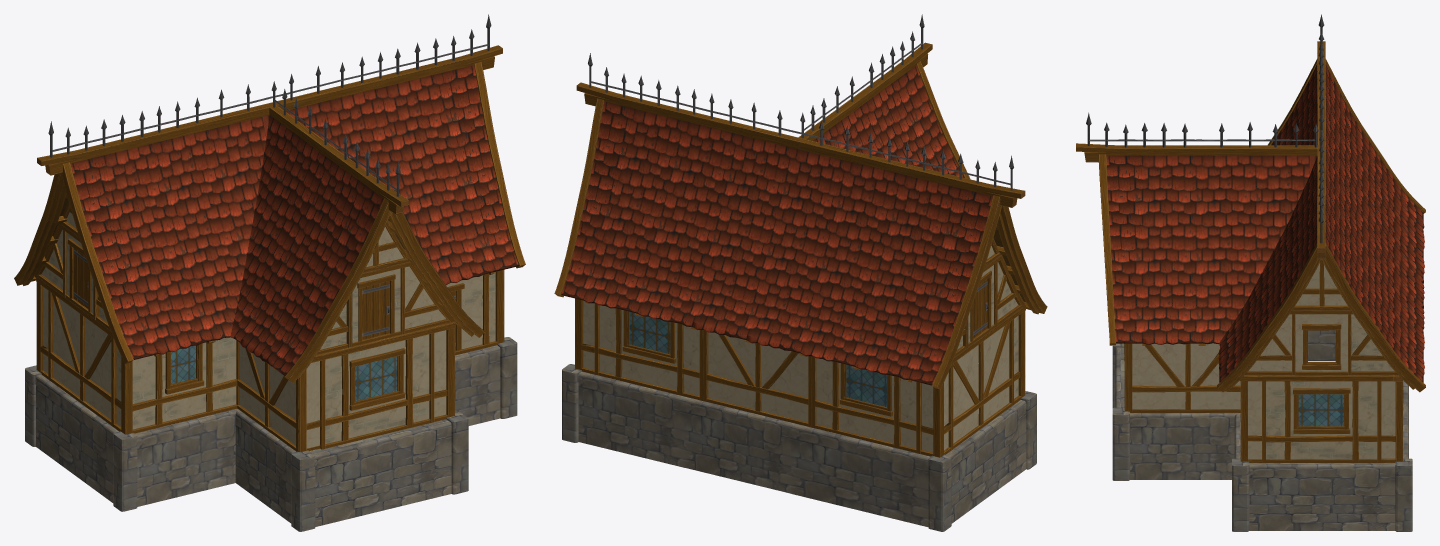
The model's file is house_2x2_04_merged.gltf.
3 renders of one model, left to right at view 1: azimuth 30°, elevation 25°; view 2: azimuth 150°, elevation 25°; view 3: azimuth 270°, elevation 25°, orthographic. The views are drawn at different scales.
Parts seen in each view (by area): view 1: House_2x2_04_Merged; view 2: House_2x2_04_Merged; view 3: House_2x2_04_Merged.
Part boxes in pixels (x1,y1,x2,y2): House_2x2_04_Merged: [14, 14, 525, 531]; House_2x2_04_Merged: [554, 14, 1047, 531]; House_2x2_04_Merged: [1076, 14, 1425, 531].
Bounding box in the file's own units: 20.47 × 15.29 × 14.66.
Materials: 8 (8 with a texture image).
